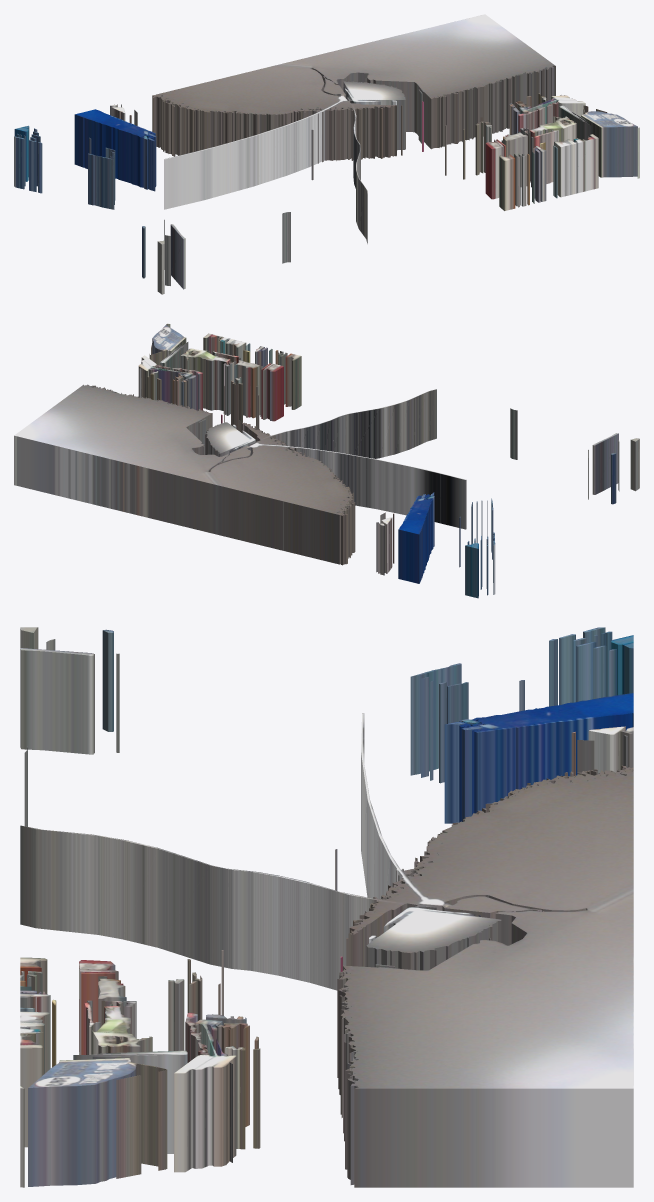
Rendered from Builder20220304020422.gltf.
3 renders of one model, top to bottom at view 1: azimuth 30°, elevation 25°; view 2: azimuth 150°, elevation 25°; view 3: azimuth 270°, elevation 25°, orthographic. The views are drawn at different scales.
Bounding box in the file's own units: 0.2449 × 0.0245 × 0.1377.
1 material, 1 textured.
